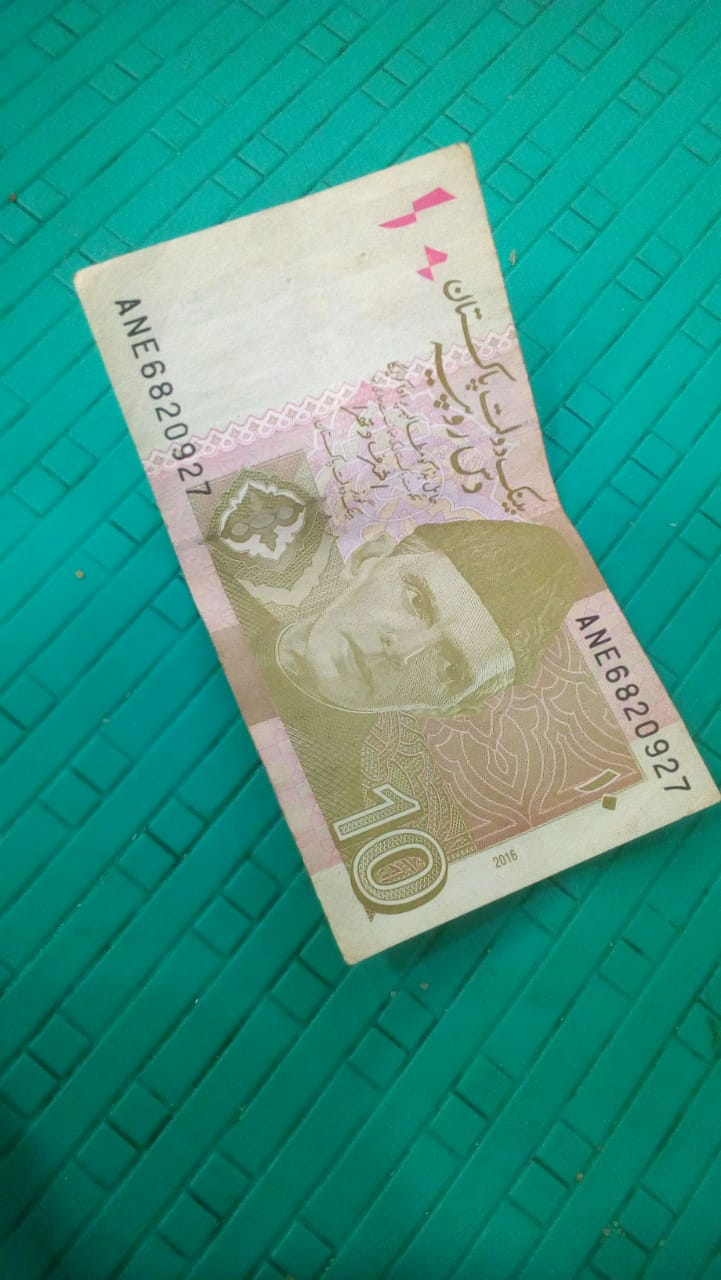10 rupee: (45, 142, 709, 1038)
